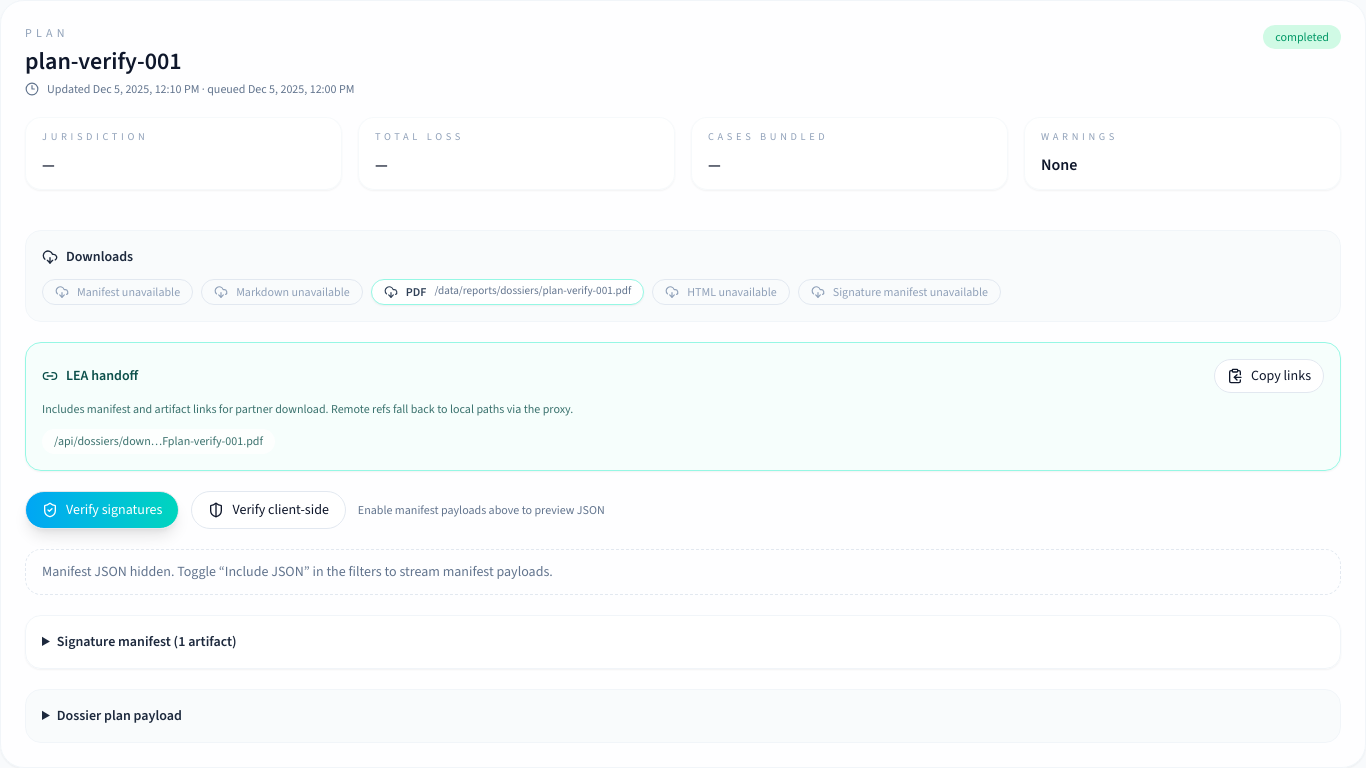
Client-side dossier verification › hashes artifacts via Web Crypto and reports results
This screenshot has width=1366, height=768.
Click the button "Verify client-side" at (269, 510), box [191,491,346,529]
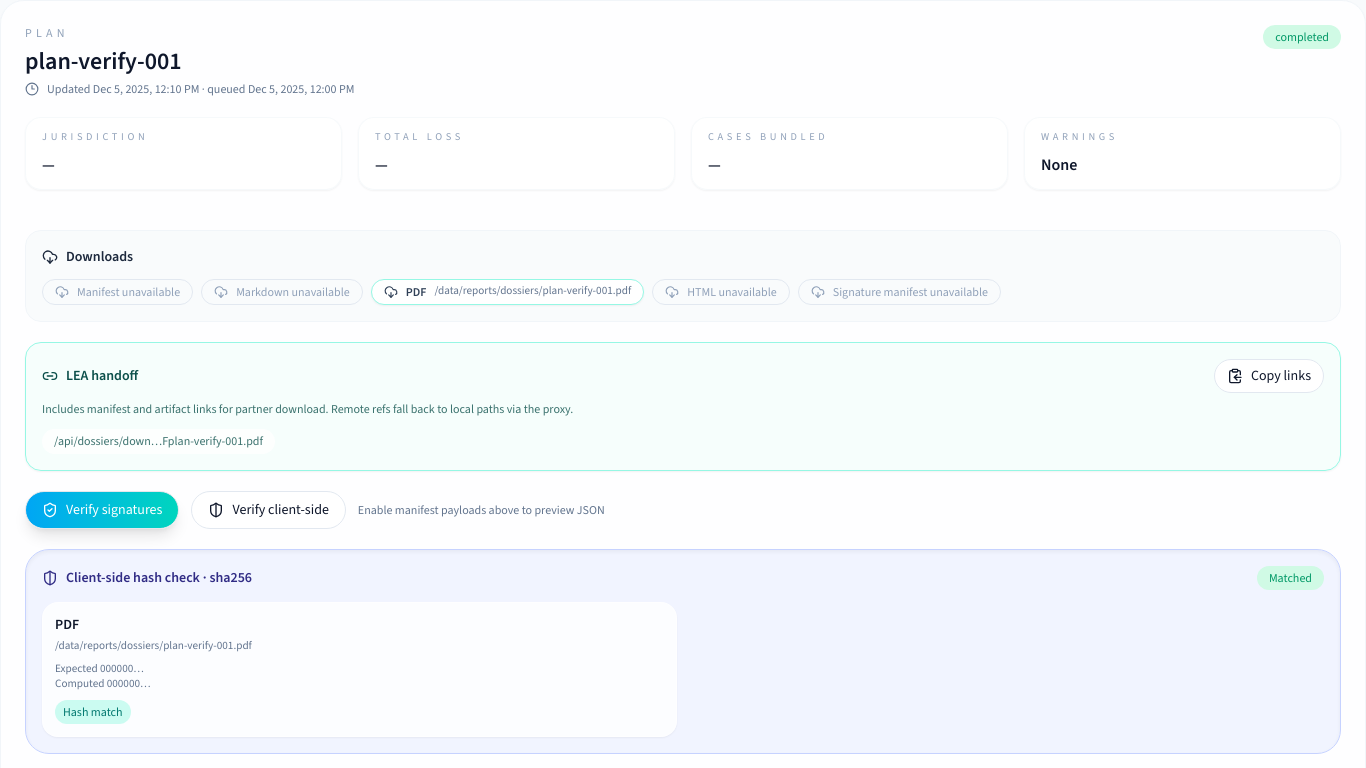
Expected: the text "Client-side hash check · sha256" is shown, [42,568,252,588]
Expected: the text "Hash match" is shown, [55,700,130,724]
